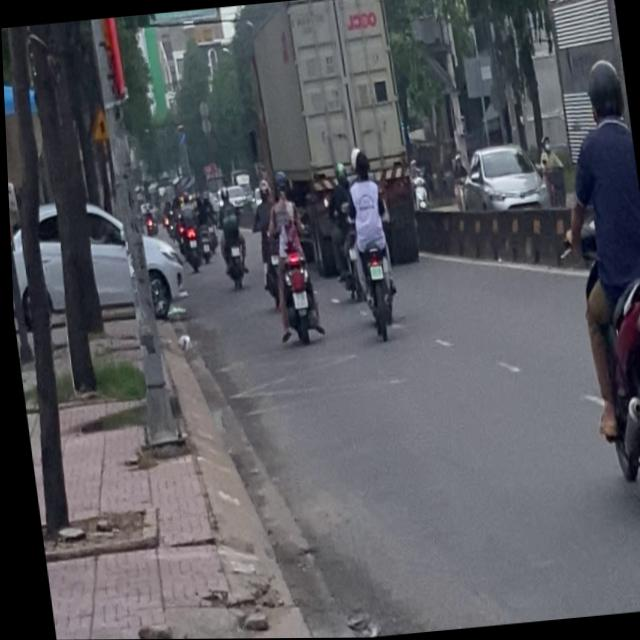helmet: (581, 56, 627, 125)
licenseplate: (542, 54, 640, 517)
nohelmet: (639, 340, 640, 376)
